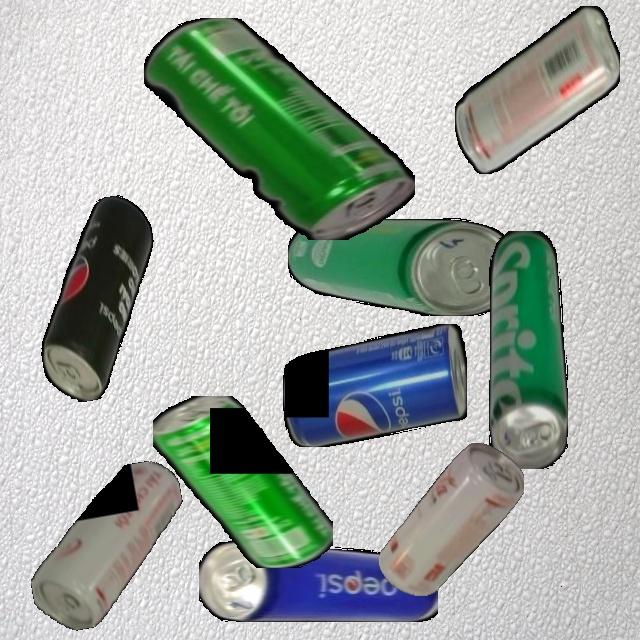debris: (144, 17, 415, 240), (17, 191, 179, 407), (14, 457, 201, 636), (152, 396, 333, 568), (454, 5, 620, 174), (282, 323, 467, 447), (378, 442, 524, 596), (287, 218, 515, 316), (199, 539, 438, 622), (488, 230, 568, 469)
